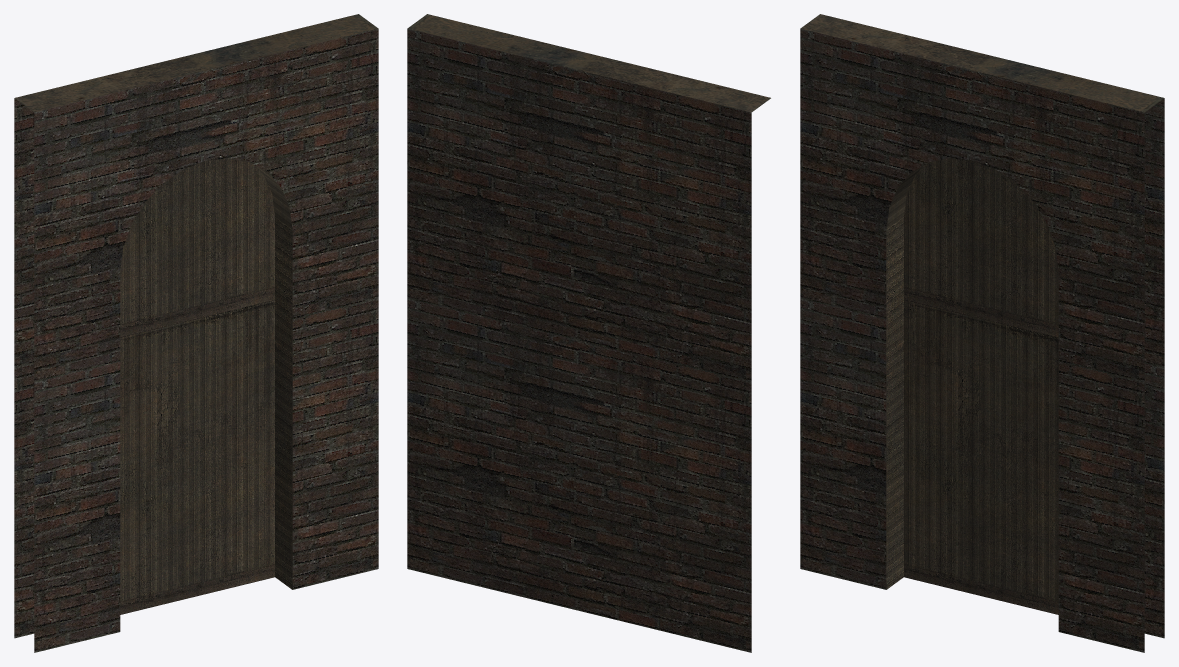
File: wall_hs_15_double.glb
3 renders of one model, left to right at view 1: azimuth 30°, elevation 25°; view 2: azimuth 150°, elevation 25°; view 3: azimuth 330°, elevation 25°, orthographic.
Parts seen in each view (by area): view 1: wall_hs_15_double; view 2: wall_hs_15_double; view 3: wall_hs_15_double.
Boxes of the visible parts, x1,y1,x2,y2 form: wall_hs_15_double: (14,14,378,652); wall_hs_15_double: (407,14,770,652); wall_hs_15_double: (800,14,1164,652).
Size of the model in its own units: 4 by 6 by 0.4.
Materials: 3 (3 with a texture image).
